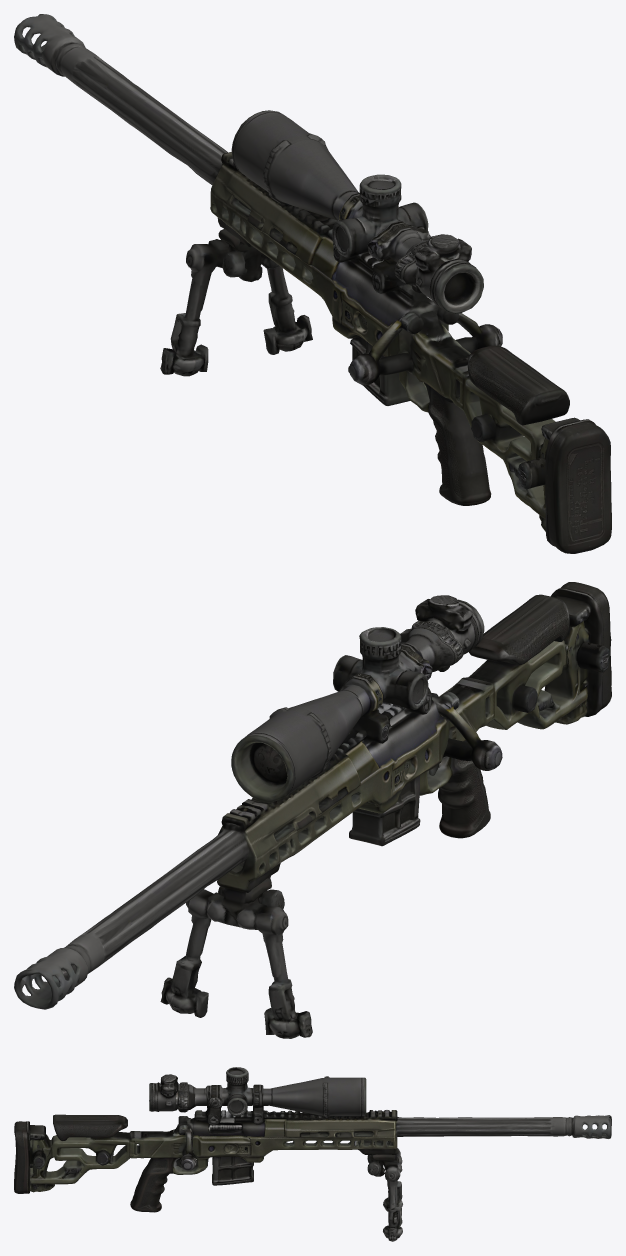
The model's file is sniper.glb.
3 views of the same model, one above another, from view 1: azimuth 30°, elevation 25°; view 2: azimuth 150°, elevation 25°; view 3: azimuth 270°, elevation 25° (orthographic). The views are drawn at different scales.
Parts seen in each view (by area): view 1: Body, Mag; view 2: Body, Mag; view 3: Body, Mag.
Part boxes in pixels (bbox=[...]): Body: bbox=[14, 14, 611, 553]; Mag: bbox=[333, 319, 383, 402]; Body: bbox=[14, 582, 611, 1038]; Mag: bbox=[349, 770, 426, 846]; Body: bbox=[14, 1067, 611, 1241]; Mag: bbox=[215, 1155, 261, 1185].
Bounding box in the file's own units: 0.1827 × 0.3368 × 1.18.
1 material, 1 textured.
